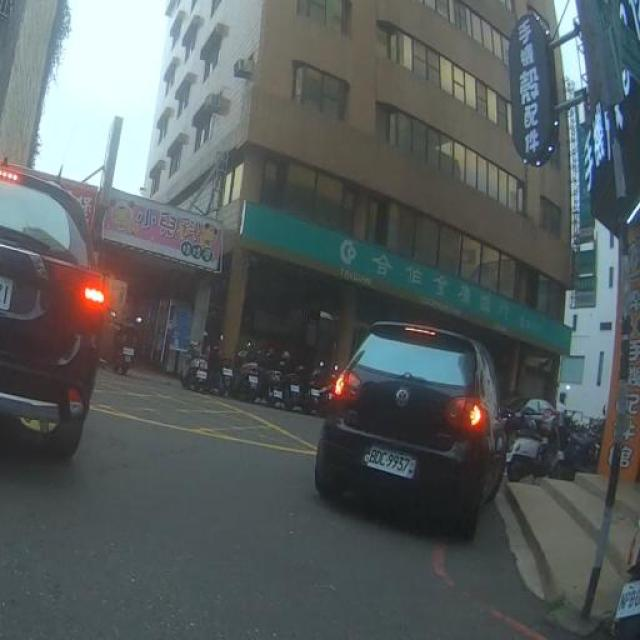Legalparking: (117, 305, 333, 413)
illegalparking: (315, 321, 505, 536), (0, 178, 100, 456)
